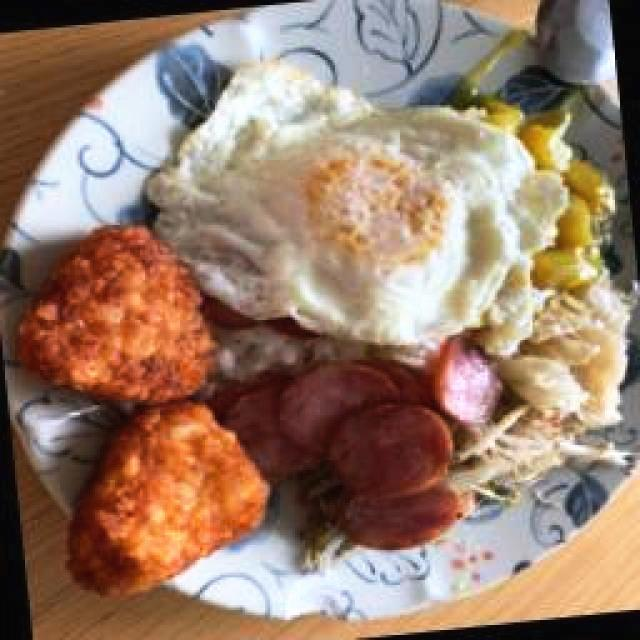Hashbrown: (69, 399, 269, 599), (18, 225, 214, 395)
chinese_sausage: (239, 344, 487, 550)
fried_eggs: (146, 61, 568, 350)
